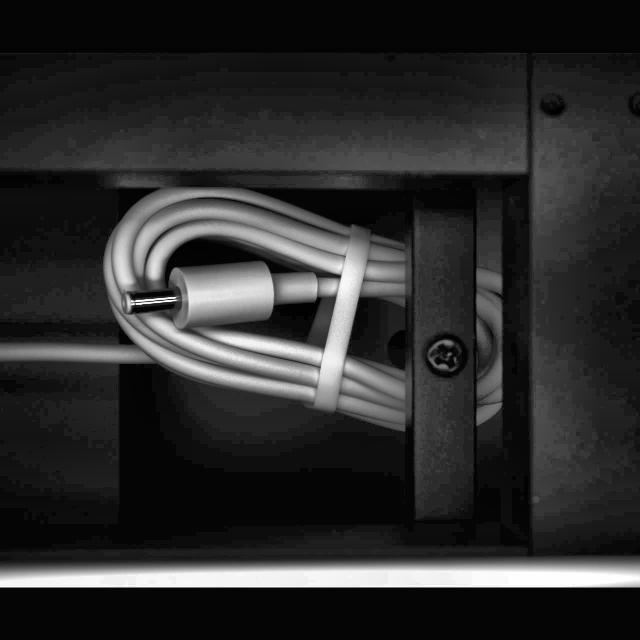Cable: (0, 184, 504, 443)
